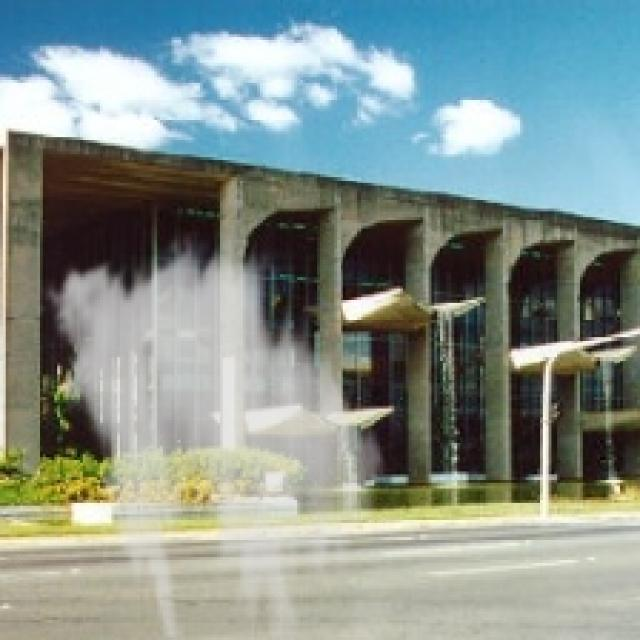smoke: (37, 232, 397, 637)
